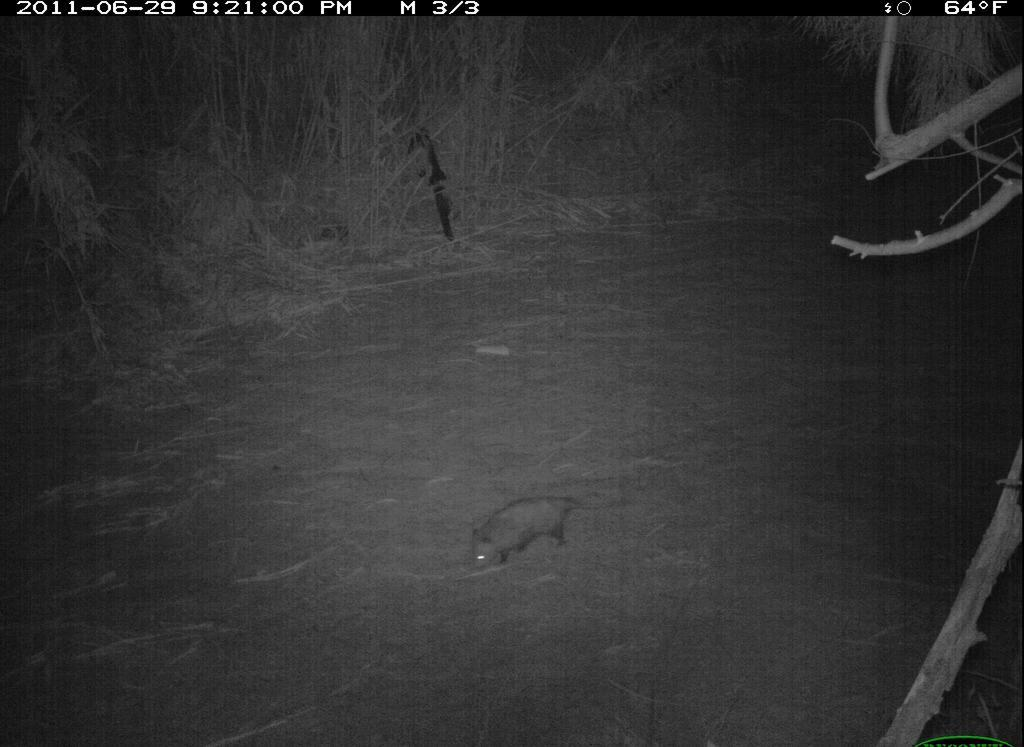opossum: (452, 486, 597, 580)
